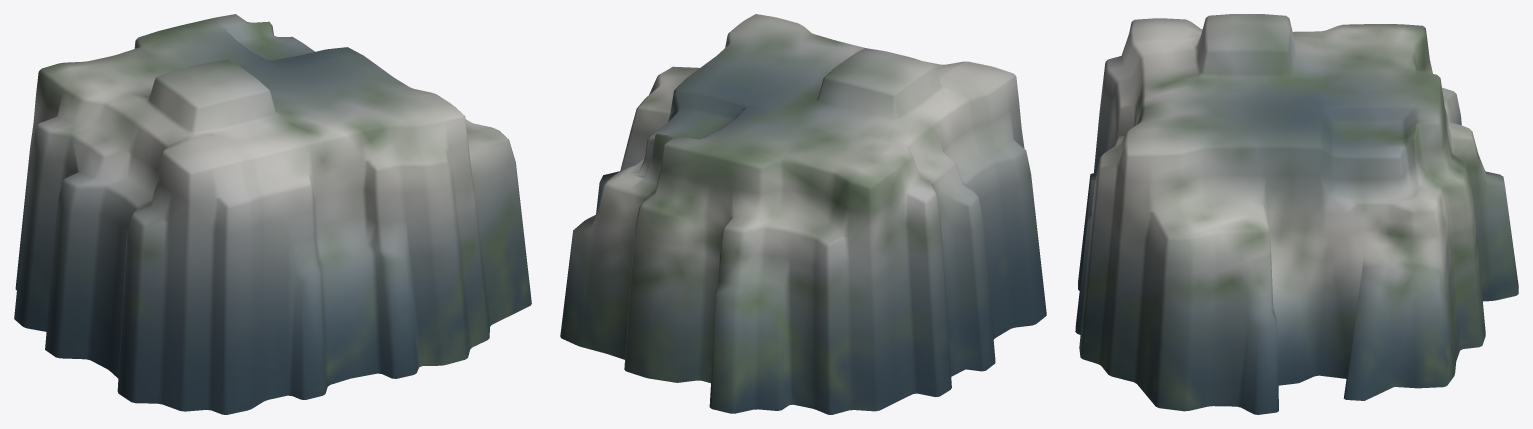
Rendered from Land Rock3.fbx.
The picture shows the model from 3 angles, left to right: view 1: azimuth 30°, elevation 25°; view 2: azimuth 150°, elevation 25°; view 3: azimuth 270°, elevation 25°; orthographic projection. The views are drawn at different scales.
Visible parts, largest first — view 1: LandRock; view 2: LandRock; view 3: LandRock.
Boxes of the visible parts, x1,y1,x2,y2 form: LandRock: (14, 14, 531, 414); LandRock: (560, 14, 1046, 414); LandRock: (1075, 14, 1518, 414).
Size of the model in its own units: 149 by 87.94 by 139.
